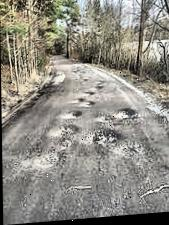pothole: (84, 127, 115, 147), (112, 109, 137, 125), (61, 110, 84, 123), (82, 91, 94, 100), (84, 101, 93, 111), (71, 99, 82, 106)
